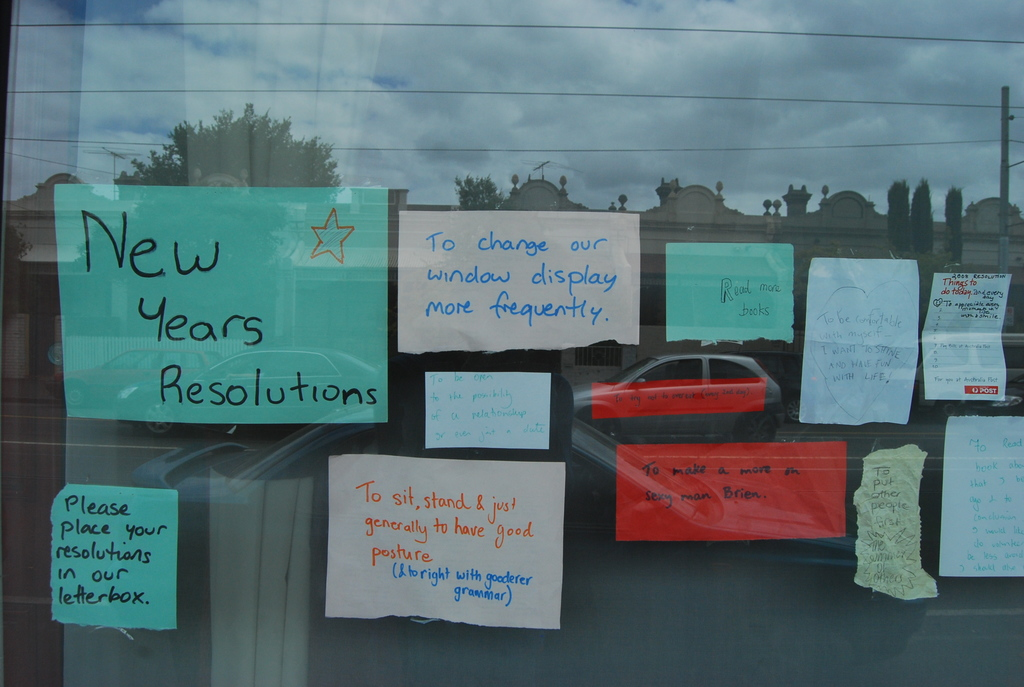Car: (584, 352, 795, 435)
